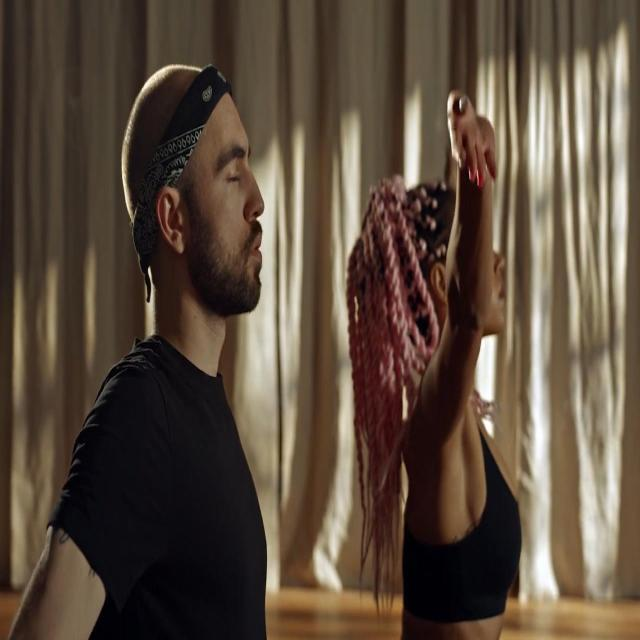no-helmet: (178, 108, 266, 318), (488, 237, 510, 335)
